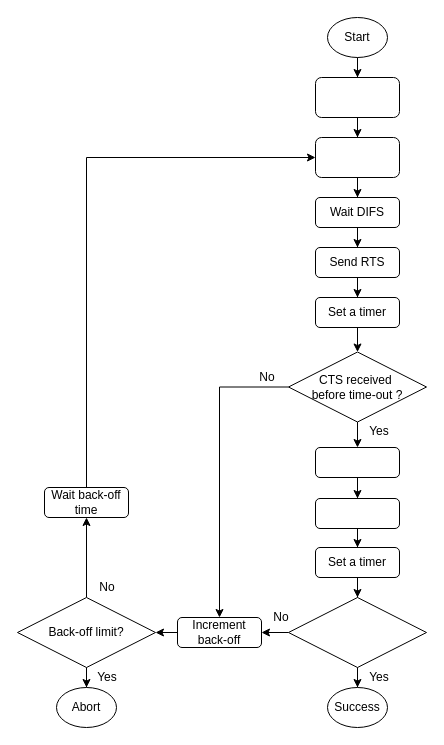
Image size: 444x745. Some labels were removed from this diagram. Here are the shapes that lost their labels. From the top down, the centre of each, then its label:
At (357,97): "Set back-off to zero".
At (357,157): "Persistence strategy".
At (357,462): "Wait SIFS".
At (357,513): "Send the frame".
At (357,632): "ACK received before time-out?".
